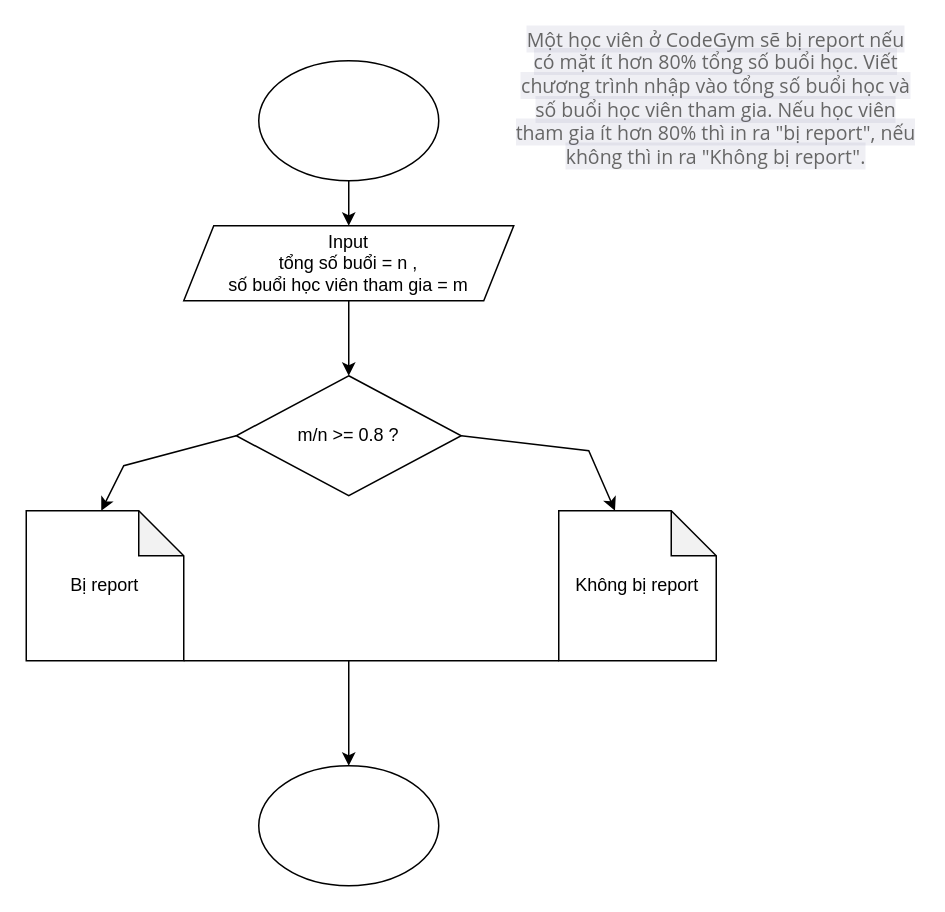
This 945x912 diagram has some shape labels left out. Here are the shapes that lost their labels. From the top down, the centre of each, then its label:
At (348,120): "Start".
At (348,825): "End".
